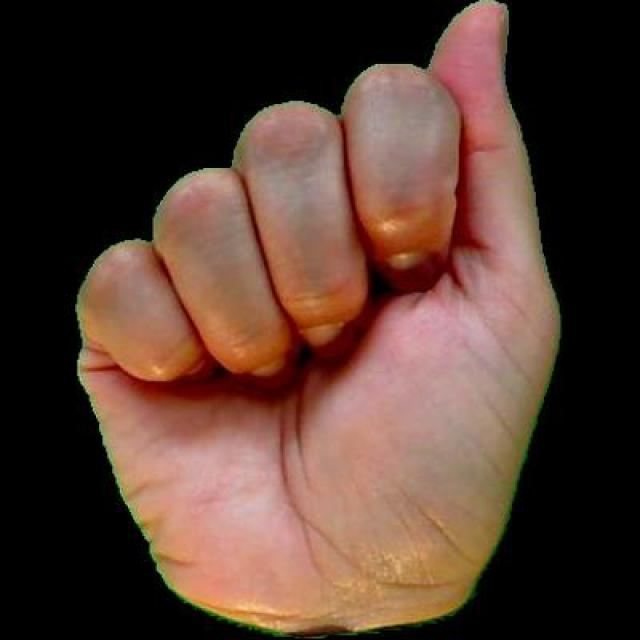a: (62, 0, 564, 637)
